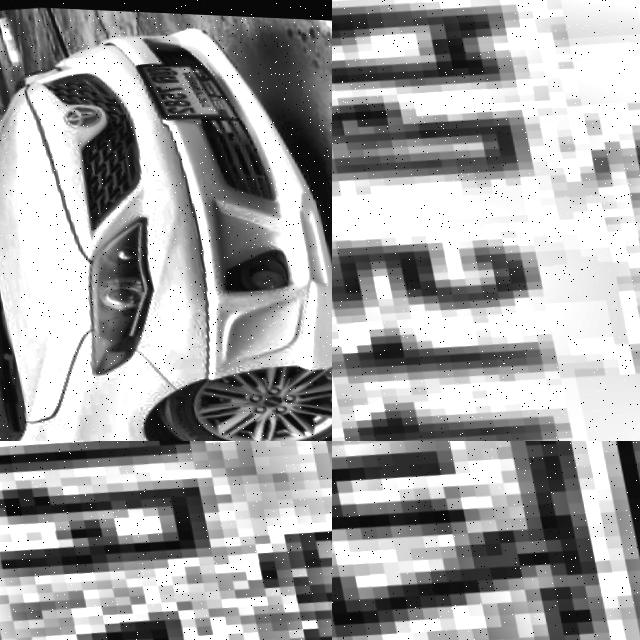license-plate: (332, 0, 640, 441), (0, 441, 332, 640), (332, 441, 640, 640), (125, 44, 242, 129)
